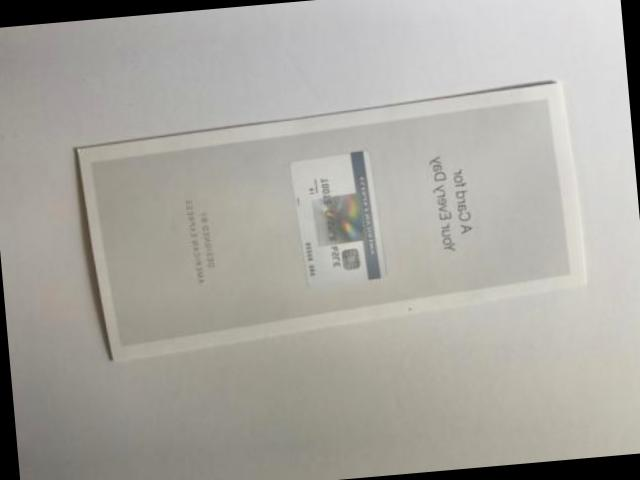cardboard paper: (80, 81, 586, 356)
